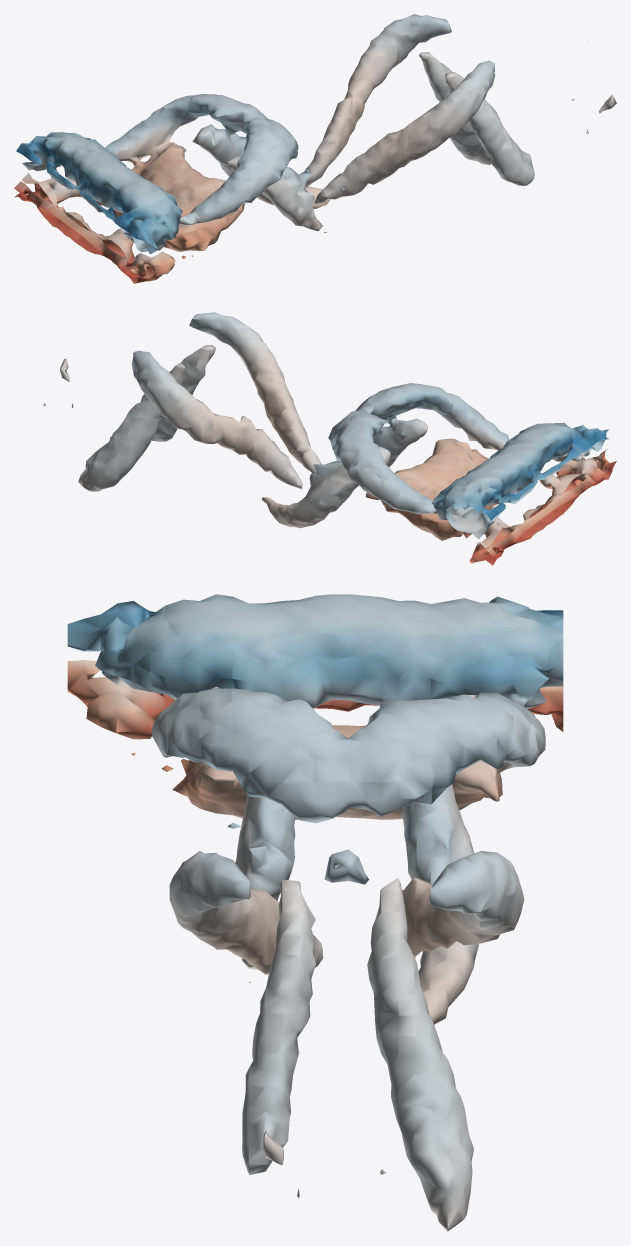
3 renders of one model, top to bottom at view 1: azimuth 30°, elevation 25°; view 2: azimuth 150°, elevation 25°; view 3: azimuth 270°, elevation 25°, orthographic. The views are drawn at different scales.
Size of the model in its own units: 6.01 by 1.73 by 2.5.
